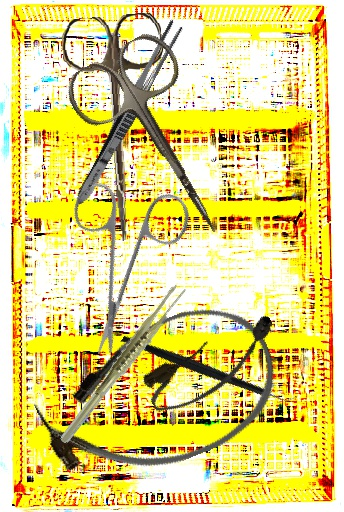Cannula: (22, 287, 296, 505), (137, 306, 289, 423)
Chopper: (119, 281, 301, 454)
Dressing Forceps: (70, 16, 186, 210)
Iris Scissors: (58, 25, 263, 262), (18, 148, 231, 359), (59, 11, 180, 245)
Tissue Forceps: (33, 280, 211, 447)
